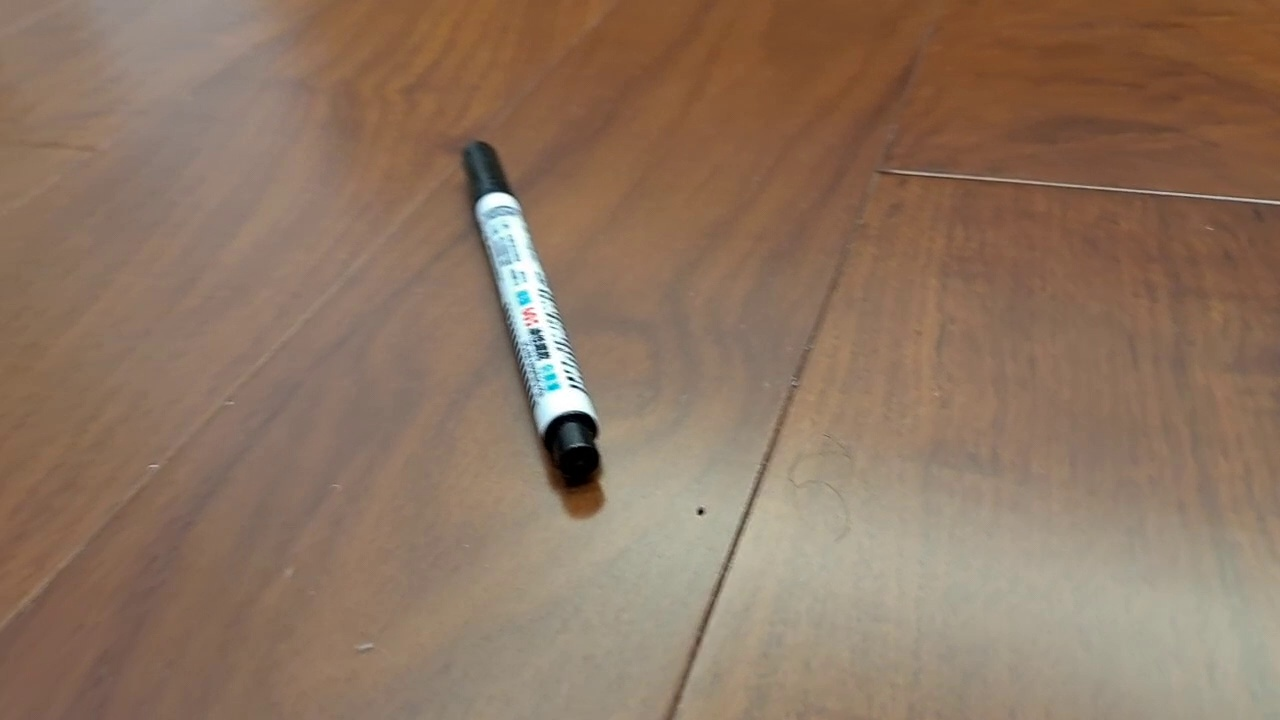pen: (460, 138, 603, 489)
